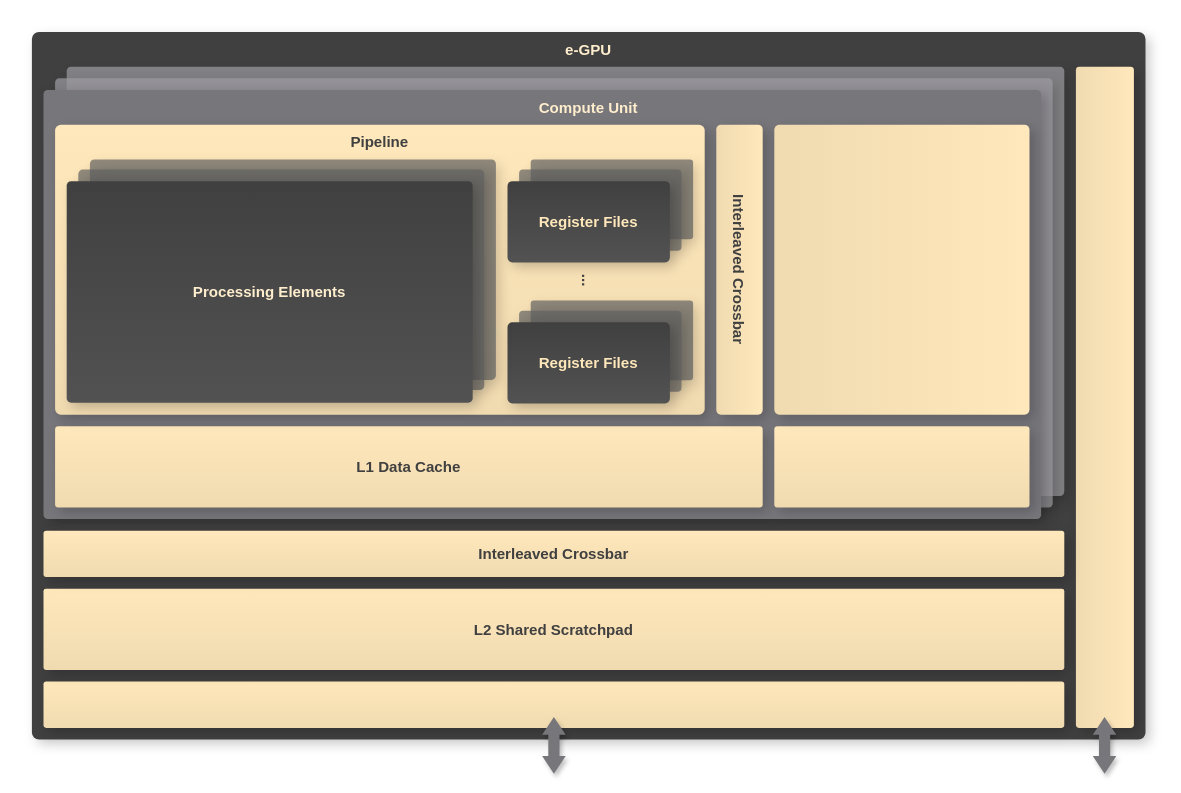
This 1181x793 diagram has some shape labels left out. Each missing label, with the centre of its shape:
Controller: point 1107,399
L1 Instruction Cache: point 903,468
Local Memory: point 903,271
Memory Controller: point 555,706
